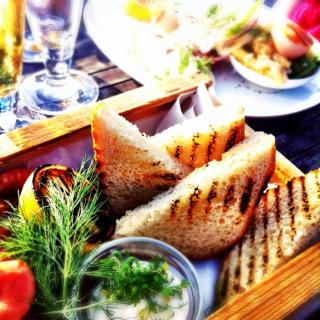tomato: (0, 265, 39, 307)
